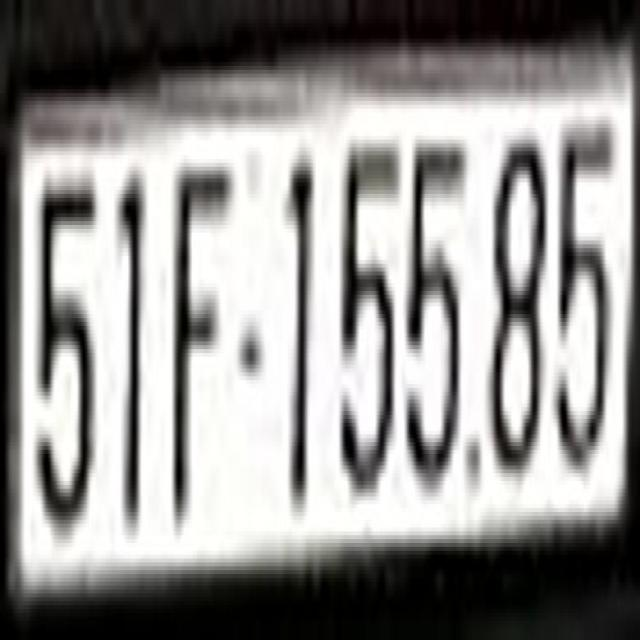1: (284, 148, 314, 528), (116, 171, 142, 543)
5: (339, 112, 400, 524), (406, 116, 465, 492), (558, 112, 617, 485), (40, 171, 94, 531)
8: (490, 124, 546, 489)
F: (172, 135, 234, 528)
